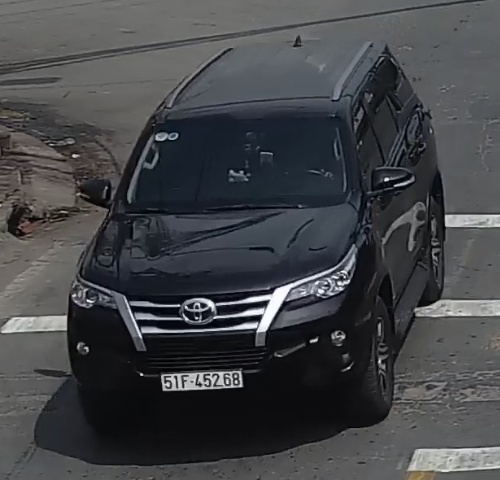vehicle plate: (159, 360, 258, 390)
